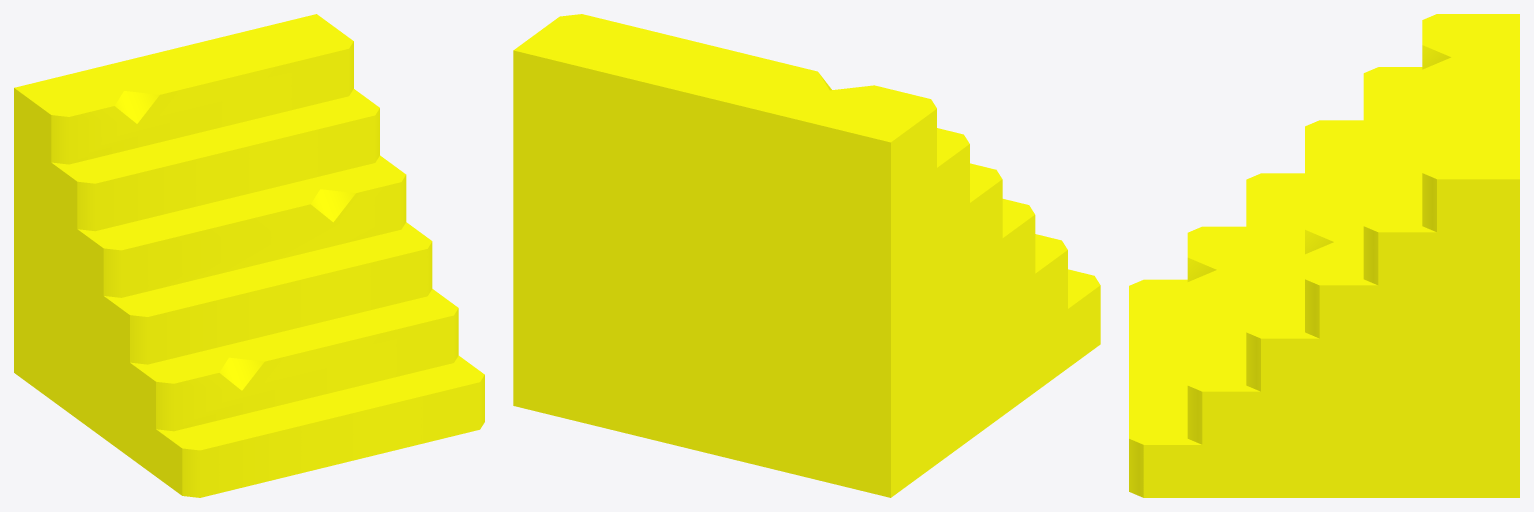
The model's file is 建筑构件_楼梯.glb.
The picture shows the model from 3 angles, left to right: view 1: azimuth 30°, elevation 25°; view 2: azimuth 150°, elevation 25°; view 3: azimuth 270°, elevation 25°; orthographic projection. The views are drawn at different scales.
Parts seen in each view (by area): view 1: stairs; view 2: stairs; view 3: stairs.
Part boxes in pixels (left/top/right/bottom): stairs: left=14, top=14, right=484, bottom=497; stairs: left=513, top=14, right=1100, bottom=497; stairs: left=1129, top=14, right=1519, bottom=497.
Size of the model in its own units: 1 by 0.9 by 1.
1 material, 1 textured.
